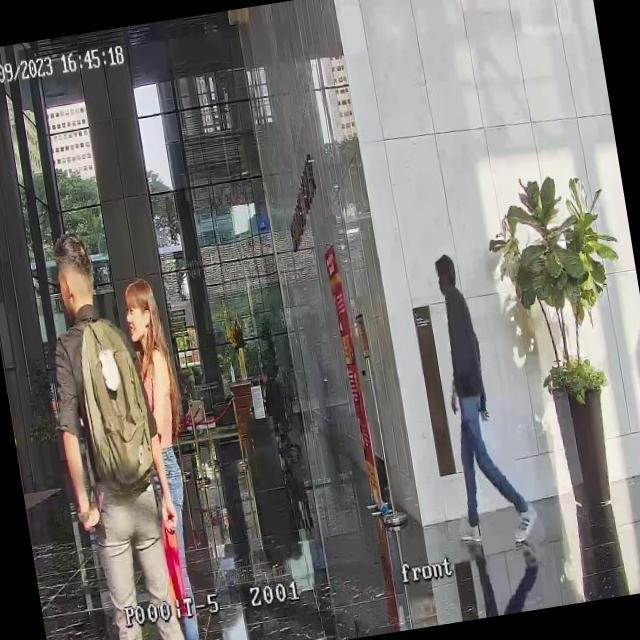person: (28, 223, 198, 640), (119, 273, 221, 640), (423, 248, 538, 554), (258, 363, 286, 424)
